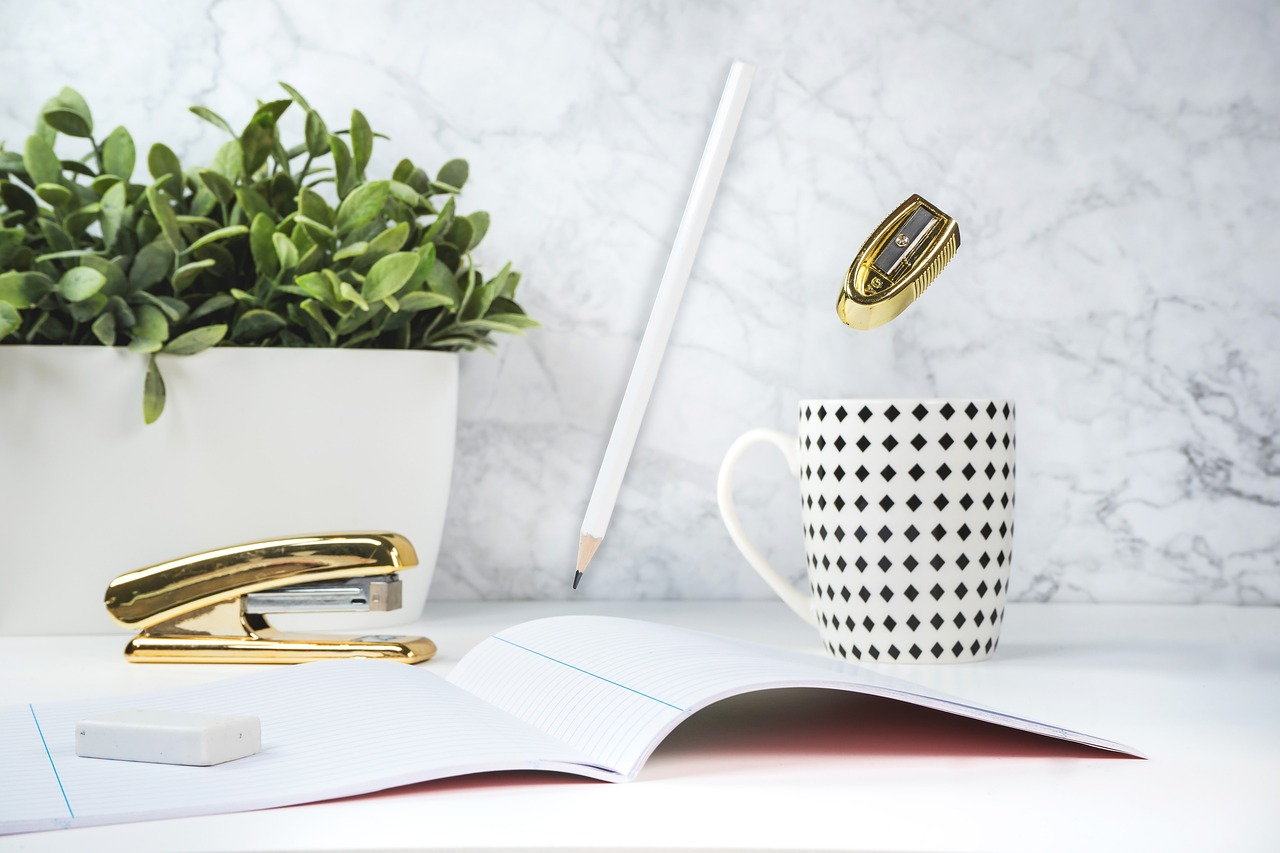mug: (703, 359, 1033, 692)
